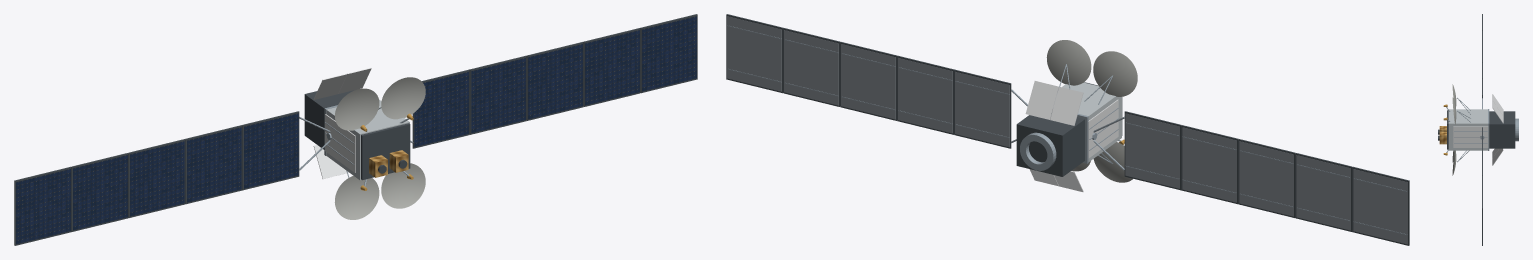
Rendered from ref-bss-702hp-26608.glb.
3 renders of one model, left to right at view 1: azimuth 30°, elevation 25°; view 2: azimuth 150°, elevation 25°; view 3: azimuth 270°, elevation 25°, orthographic. The views are drawn at different scales.
Visible parts, largest first — view 1: Solar cell panel (×10), Communications reflector (×4), Solar panel frame (×10), Earth-facing deck, Deployed radiator leaf (×3), Service module, Radiator face, Payload module; view 2: Rear array substrate (×10), Solar panel frame (×10), Communications reflector (×3), Service module, Deployed radiator leaf (×2), Payload module, Radiator face, Launch adapter ring; view 3: Service module, Payload module, Radiator face, Deployed radiator leaf (×3), Communications reflector (×3), Communications feed assembly, Launch adapter ring, Module interface, Earth-facing deck.
Part boxes in pixels (<box>): Solar cell panel (×10): <box>16,16,696,244</box>; Communications reflector (×4): <box>334,77,425,219</box>; Solar panel frame (×10): <box>14,14,697,245</box>; Earth-facing deck: <box>361,123,410,180</box>; Deployed radiator leaf (×3): <box>313,68,371,178</box>; Service module: <box>304,90,354,149</box>; Radiator face: <box>325,114,355,172</box>; Payload module: <box>326,99,409,180</box>; Rear array substrate (×10): <box>727,16,1407,244</box>; Solar panel frame (×10): <box>726,14,1409,245</box>; Communications reflector (×3): <box>1046,40,1137,182</box>; Service module: <box>1016,113,1084,176</box>; Deployed radiator leaf (×2): <box>1025,81,1083,125</box>; Payload module: <box>1053,82,1121,161</box>; Radiator face: <box>1088,99,1118,158</box>; Launch adapter ring: <box>1020,132,1056,170</box>; Service module: <box>1489,111,1515,148</box>; Payload module: <box>1448,109,1487,150</box>; Radiator face: <box>1453,126,1488,147</box>; Deployed radiator leaf (×3): <box>1492,94,1503,165</box>; Communications reflector (×3): <box>1452,84,1456,175</box>; Communications feed assembly: <box>1439,132,1446,144</box>; Launch adapter ring: <box>1515,118,1518,141</box>; Module interface: <box>1488,109,1489,150</box>; Earth-facing deck: <box>1447,110,1448,149</box>.
Size of the model in its own units: 40.87 by 7.45 by 7.2.
Materials: 9 (2 with a texture image).
